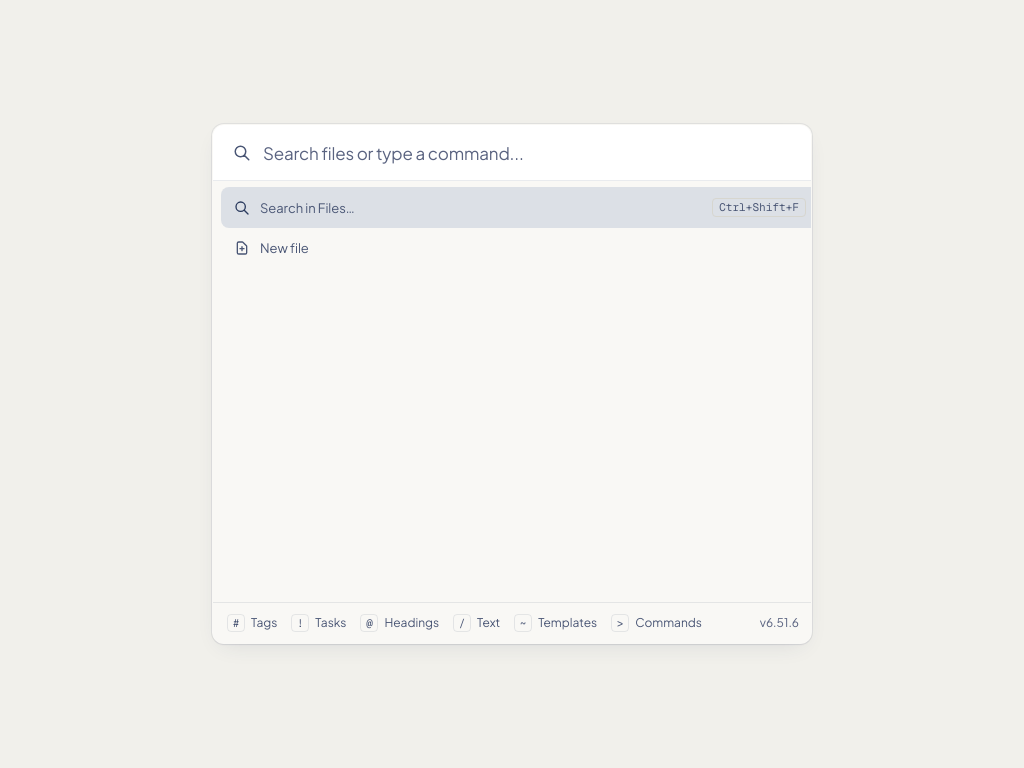
Scenario: CommandPalette › keeps commands out of the default file search and shows them after >
This screenshot has width=1024, height=768.
Press p
In the dropdown: (531, 152) [263,125,799,180], type ">test"
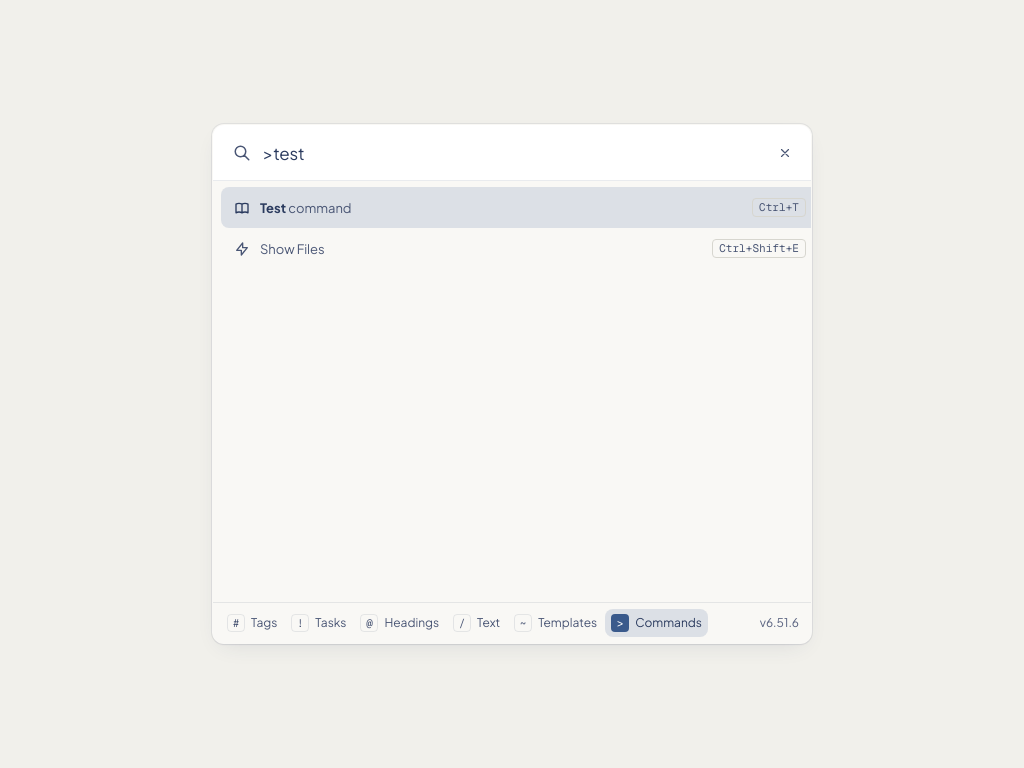
Result: the list shows "Test command" at [221,187,812,269]
Result: the option "Test command Ctrl+T" is shown at [221,187,811,228]
